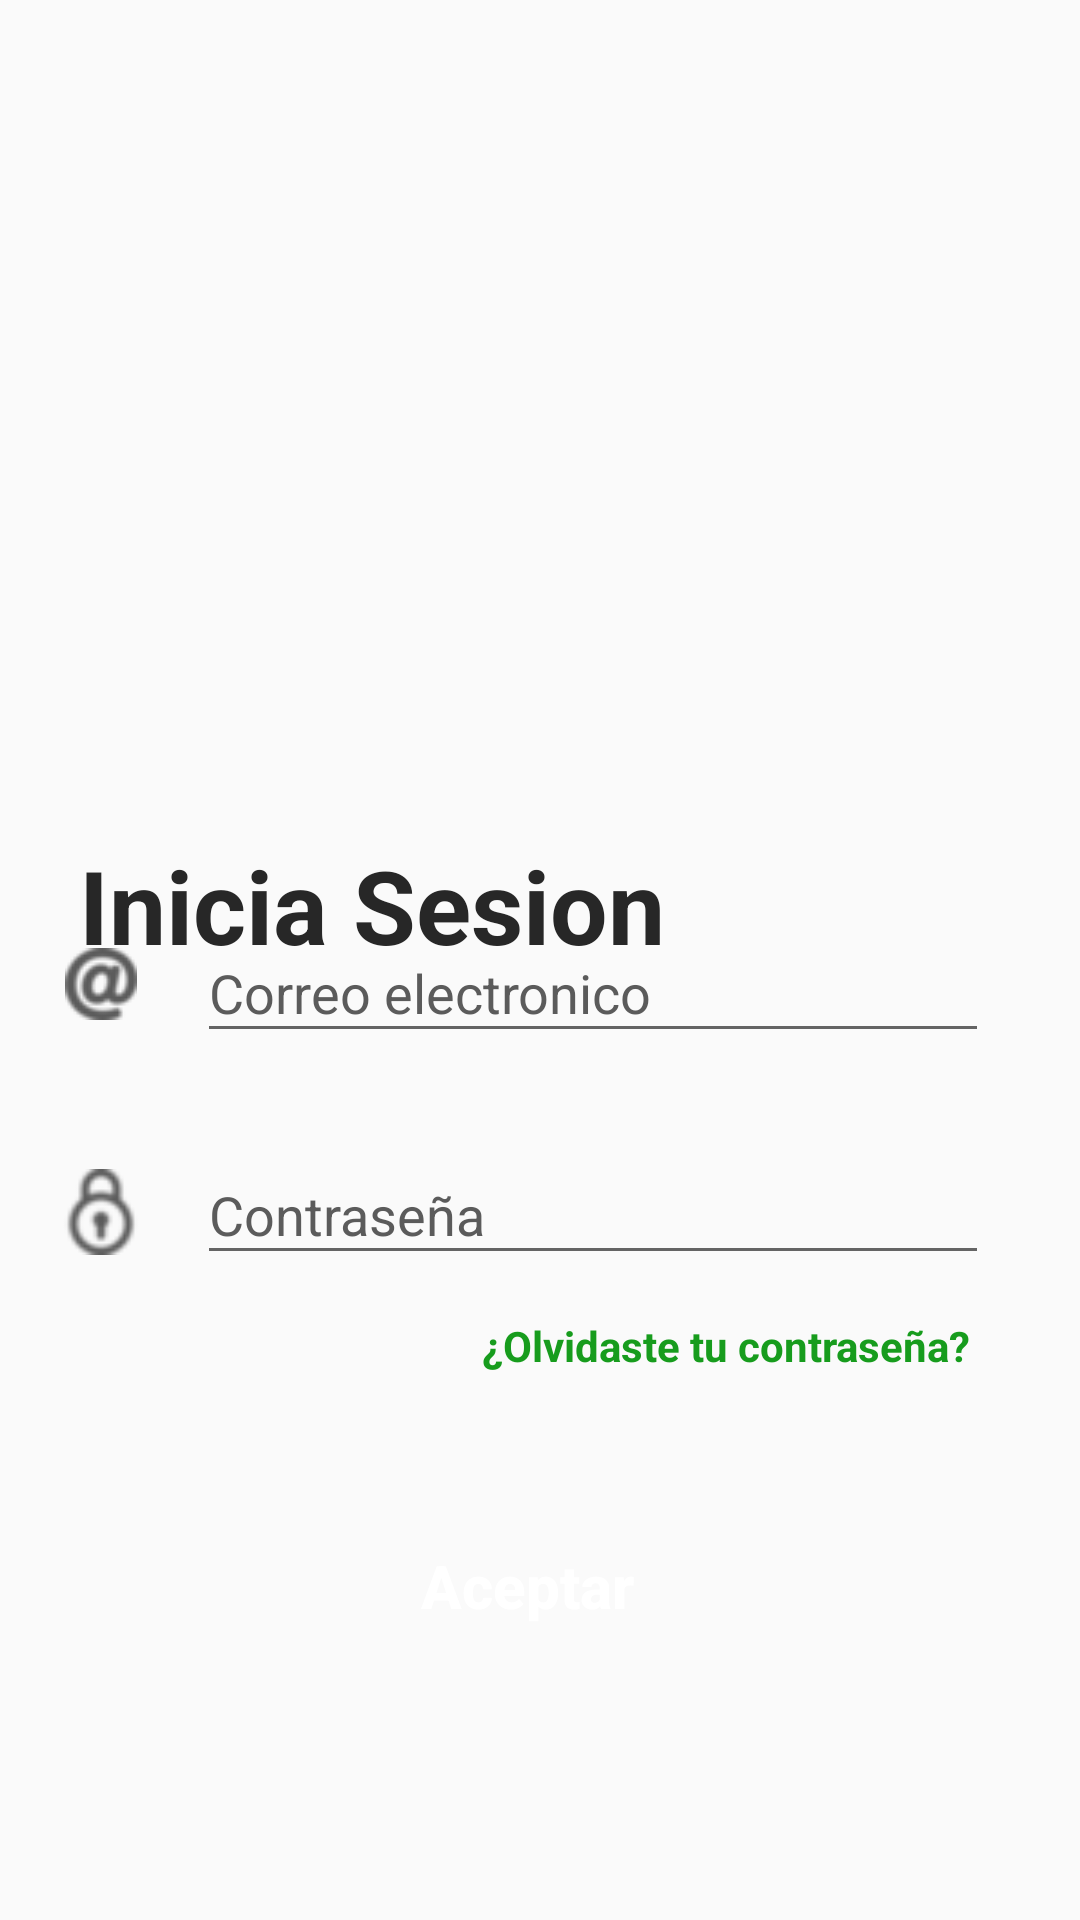

Named icons in this screenshot (1080×1920) and their bounding boxes, [left=x1, top=y1, right=x2, bottom=y2]:
arroba: [left=65, top=948, right=137, bottom=1020]
